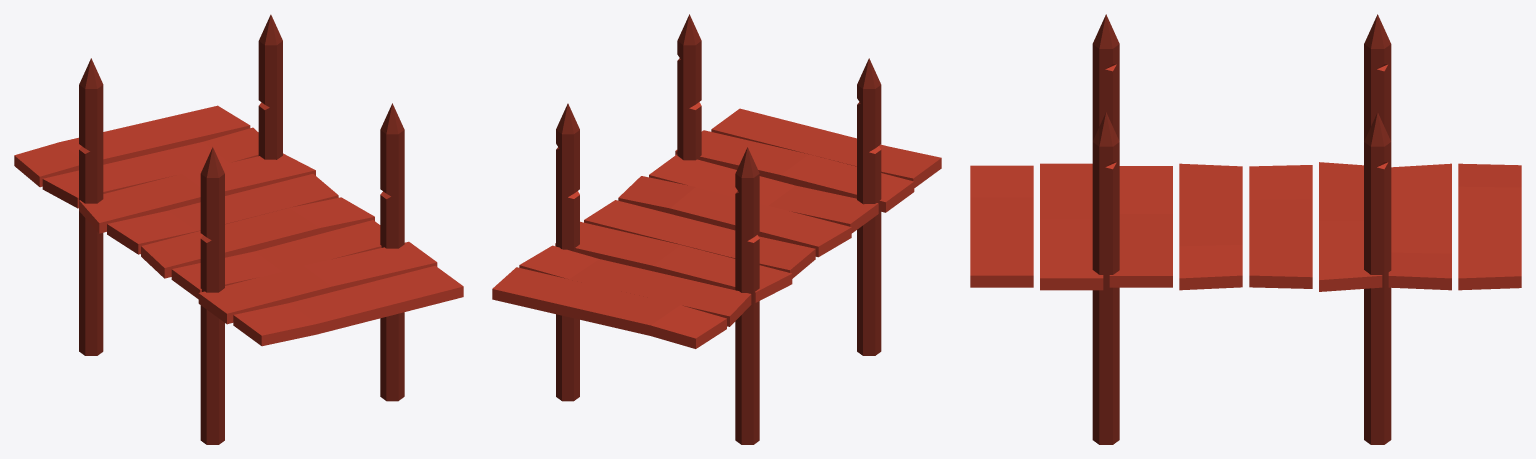
The model's file is Bridge_5_Red.fbx.
3 views of the same model, side by side, from view 1: azimuth 30°, elevation 25°; view 2: azimuth 150°, elevation 25°; view 3: azimuth 270°, elevation 25° (orthographic). The views are drawn at different scales.
Visible parts, largest first — view 1: Bridge_5_Red_Part_1, Bridge_5_Red_Part_5, Bridge_5_Red_Part_4, Bridge_5_Red_Part_2, Bridge_5_Red_Part_3; view 2: Bridge_5_Red_Part_1, Bridge_5_Red_Part_5, Bridge_5_Red_Part_4, Bridge_5_Red_Part_3, Bridge_5_Red_Part_2; view 3: Bridge_5_Red_Part_1, Bridge_5_Red_Part_3, Bridge_5_Red_Part_2, Bridge_5_Red_Part_4, Bridge_5_Red_Part_5.
Part boxes in pixels (x1,y1,x2,y2): Bridge_5_Red_Part_1: (14,105,463,346); Bridge_5_Red_Part_5: (79,58,103,355); Bridge_5_Red_Part_4: (200,147,224,444); Bridge_5_Red_Part_2: (380,103,404,401); Bridge_5_Red_Part_3: (258,14,282,159); Bridge_5_Red_Part_1: (492,108,941,348); Bridge_5_Red_Part_5: (735,147,759,444); Bridge_5_Red_Part_4: (857,58,881,355); Bridge_5_Red_Part_3: (556,103,579,401); Bridge_5_Red_Part_2: (677,14,701,160); Bridge_5_Red_Part_1: (970,162,1521,291); Bridge_5_Red_Part_3: (1364,112,1391,444); Bridge_5_Red_Part_2: (1092,112,1119,444); Bridge_5_Red_Part_4: (1092,14,1119,140); Bridge_5_Red_Part_5: (1364,14,1391,141).
Bounding box in the file's own units: 309 × 400 × 609.
